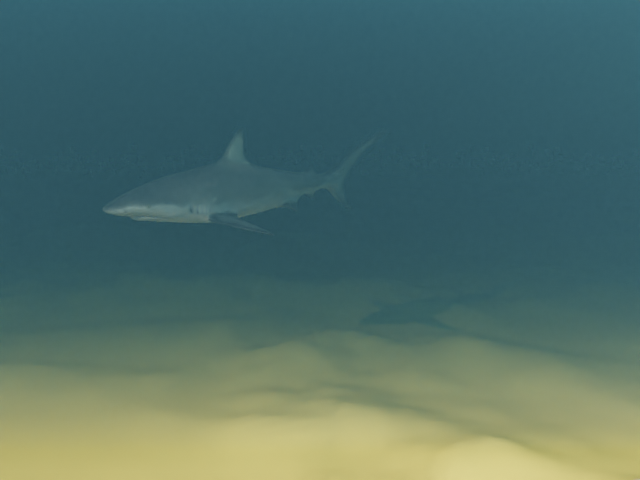Carribean Shark.001: (102, 128, 387, 235)
